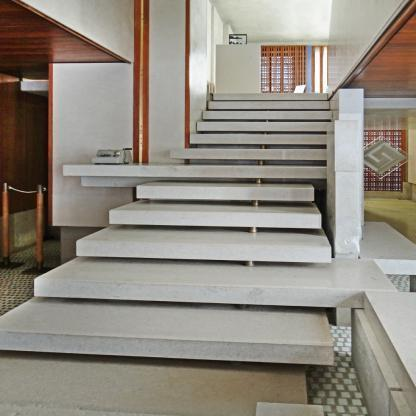stair: (81, 70, 336, 386)
